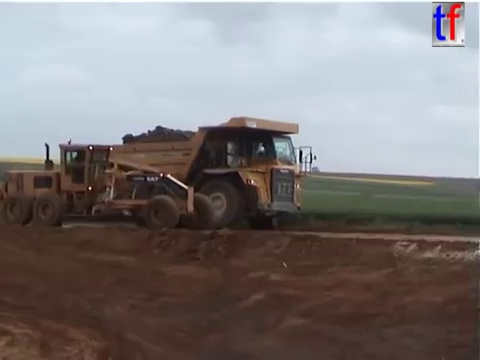motor grader: (1, 135, 216, 232)
truck: (78, 115, 318, 232)
